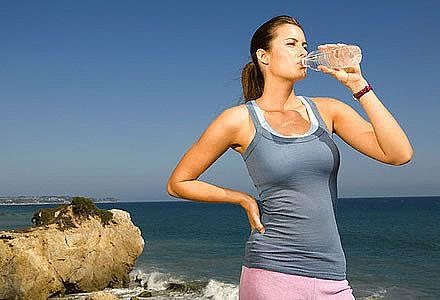person: (165, 13, 417, 299)
